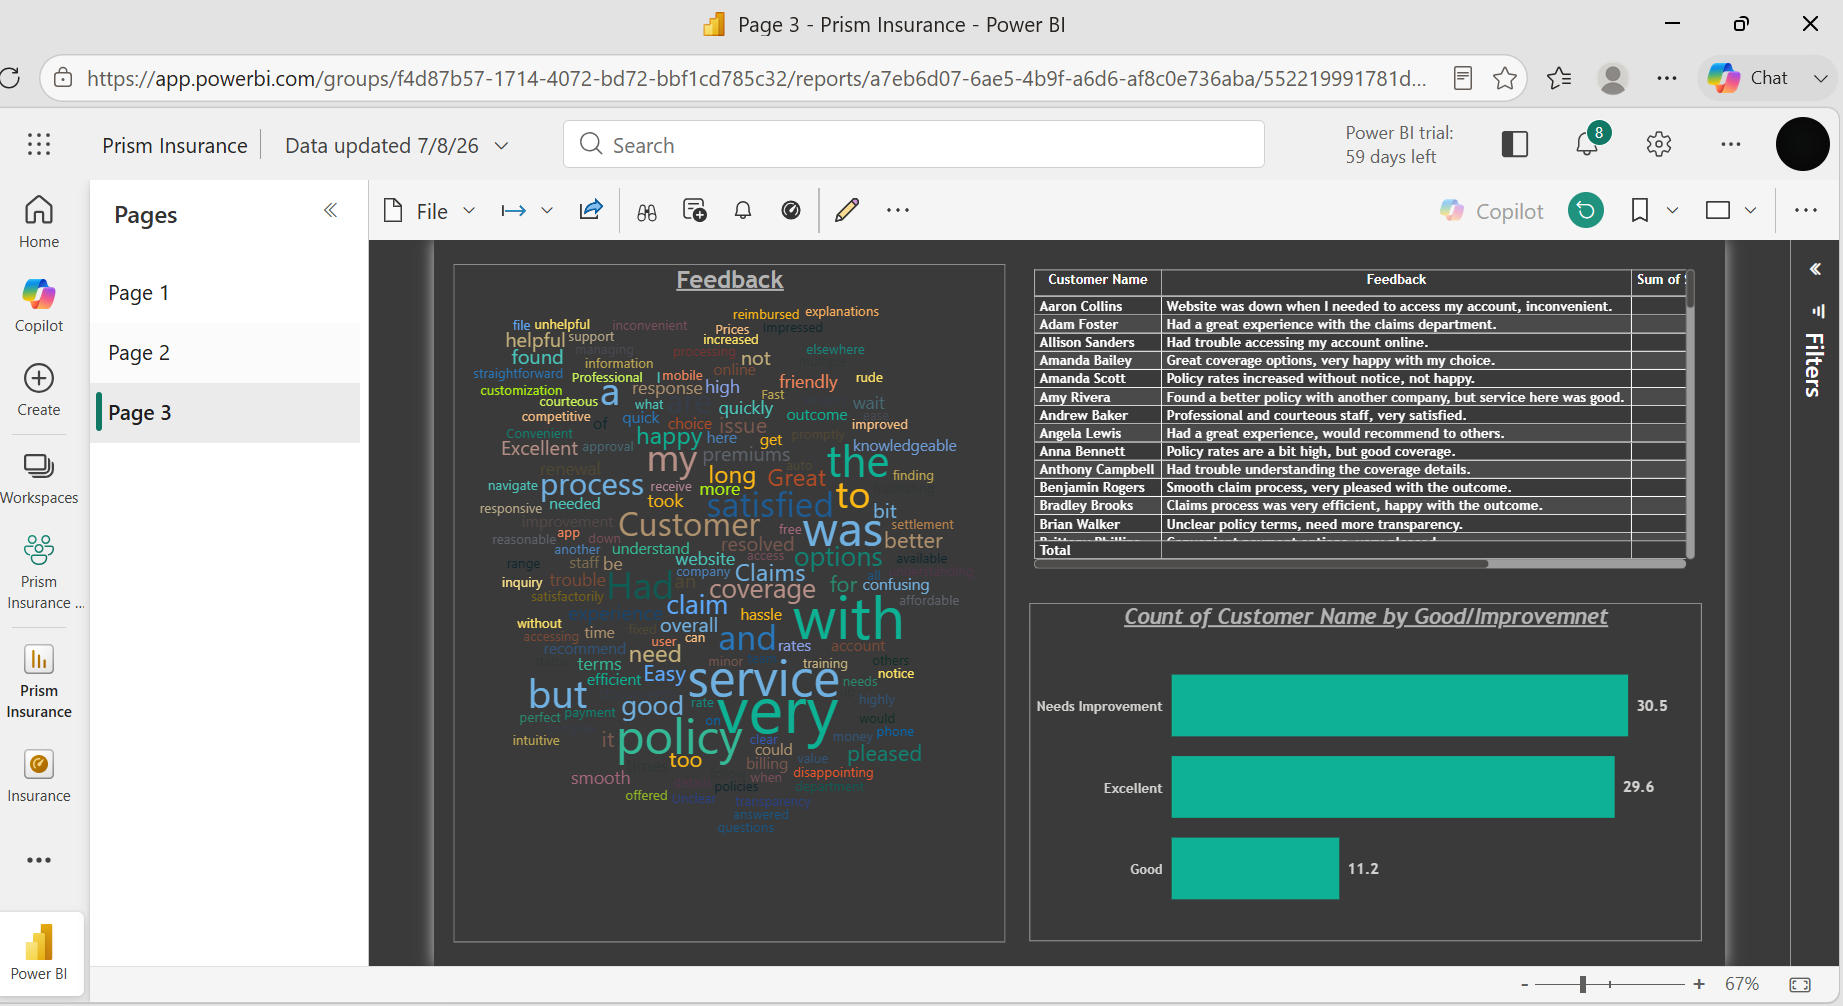

The page's visual inventory and layout, read from the dashboard file:
{"tool":"powerbi","page":{"name":"Page 3","canvas":[1280,720],"ordinal":2},"visuals":[{"type":"WordCloud1447959067750","fields":{"Category":["Customer Feedback.Feedback"]},"box":[19.1,23.9,547.2,672.8],"z":0},{"type":"tableEx","fields":{"Values":["Customer Feedback.Customer Name","Customer Feedback.Feedback","Sum(Customer Feedback.Sentiment Score (0-1))","Customer Feedback.Good/Improvement"]},"box":[588.5,23.9,666.5,307],"z":1},{"type":"barChart","title":"Count of Customer Name by Good/Improvemnet","fields":{"Category":["Customer Feedback.Good/Improvement"],"Y":["Sum(Customer Feedback.Sentiment Score (0-1))"]},"box":[590.1,359.5,666.5,335.6],"z":2}]}

Visuals, with their boxes on the page's 1280x720 design canvas (x1, y1, x2, y2). These are canvas units, not pixel positions in the 1843x1006 screenshot, which may show the page scaled, cropped or inside an application window:
WordCloud1447959067750 - Customer Feedback.Feedback: {"x1": 19, "y1": 24, "x2": 566, "y2": 697}
tableEx - Customer Feedback.Customer Name x Customer Feedback.Feedback: {"x1": 588, "y1": 24, "x2": 1255, "y2": 331}
"Count of Customer Name by Good/Improvemnet" barChart: {"x1": 590, "y1": 360, "x2": 1257, "y2": 695}
